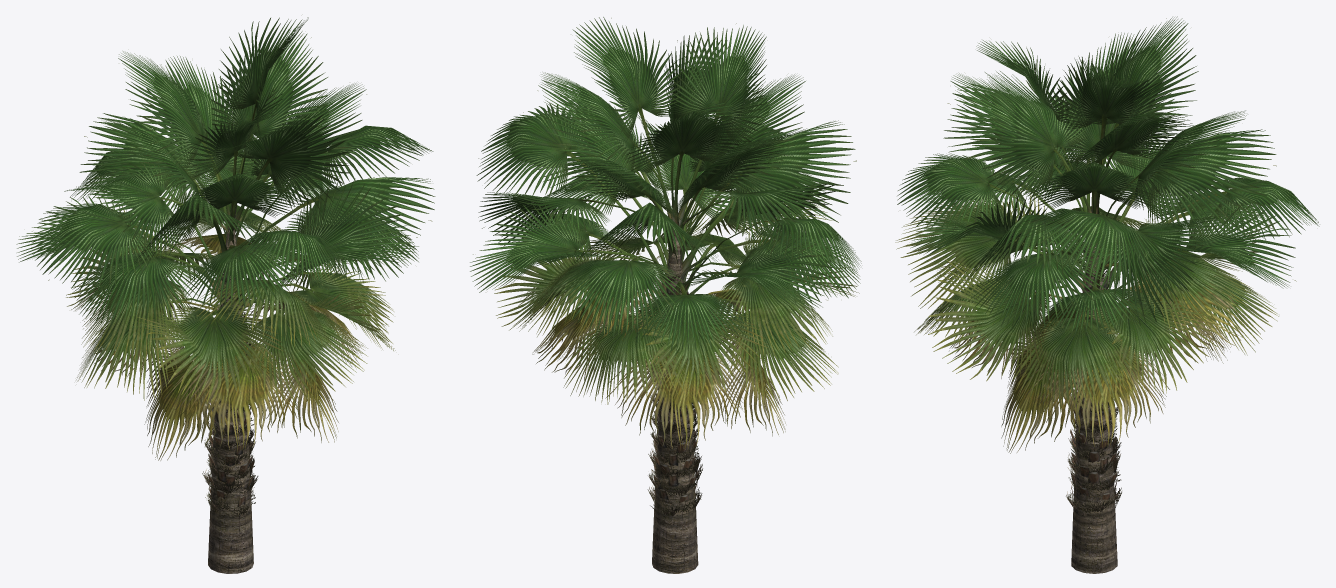
Rendered from MK4_FanPalm1.DAE.
3 renders of one model, left to right at view 1: azimuth 30°, elevation 25°; view 2: azimuth 150°, elevation 25°; view 3: azimuth 270°, elevation 25°, orthographic. The views are drawn at different scales.
Visible parts, largest first — view 1: MK4_FanPalm1; view 2: MK4_FanPalm1; view 3: MK4_FanPalm1.
Boxes of the visible parts, box(x1,y1,x2,y2) form: MK4_FanPalm1: box(16, 17, 435, 573); MK4_FanPalm1: box(470, 17, 861, 573); MK4_FanPalm1: box(895, 16, 1319, 573).
Size of what is drawn, in the model's own units: 14.76 by 13.9 by 19.41.
